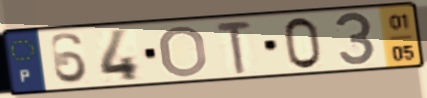0: (282, 15, 324, 71)
3: (333, 9, 379, 70)
4: (97, 27, 145, 84)
6: (49, 31, 90, 87)
O: (158, 24, 210, 79)
T: (213, 20, 256, 76)
